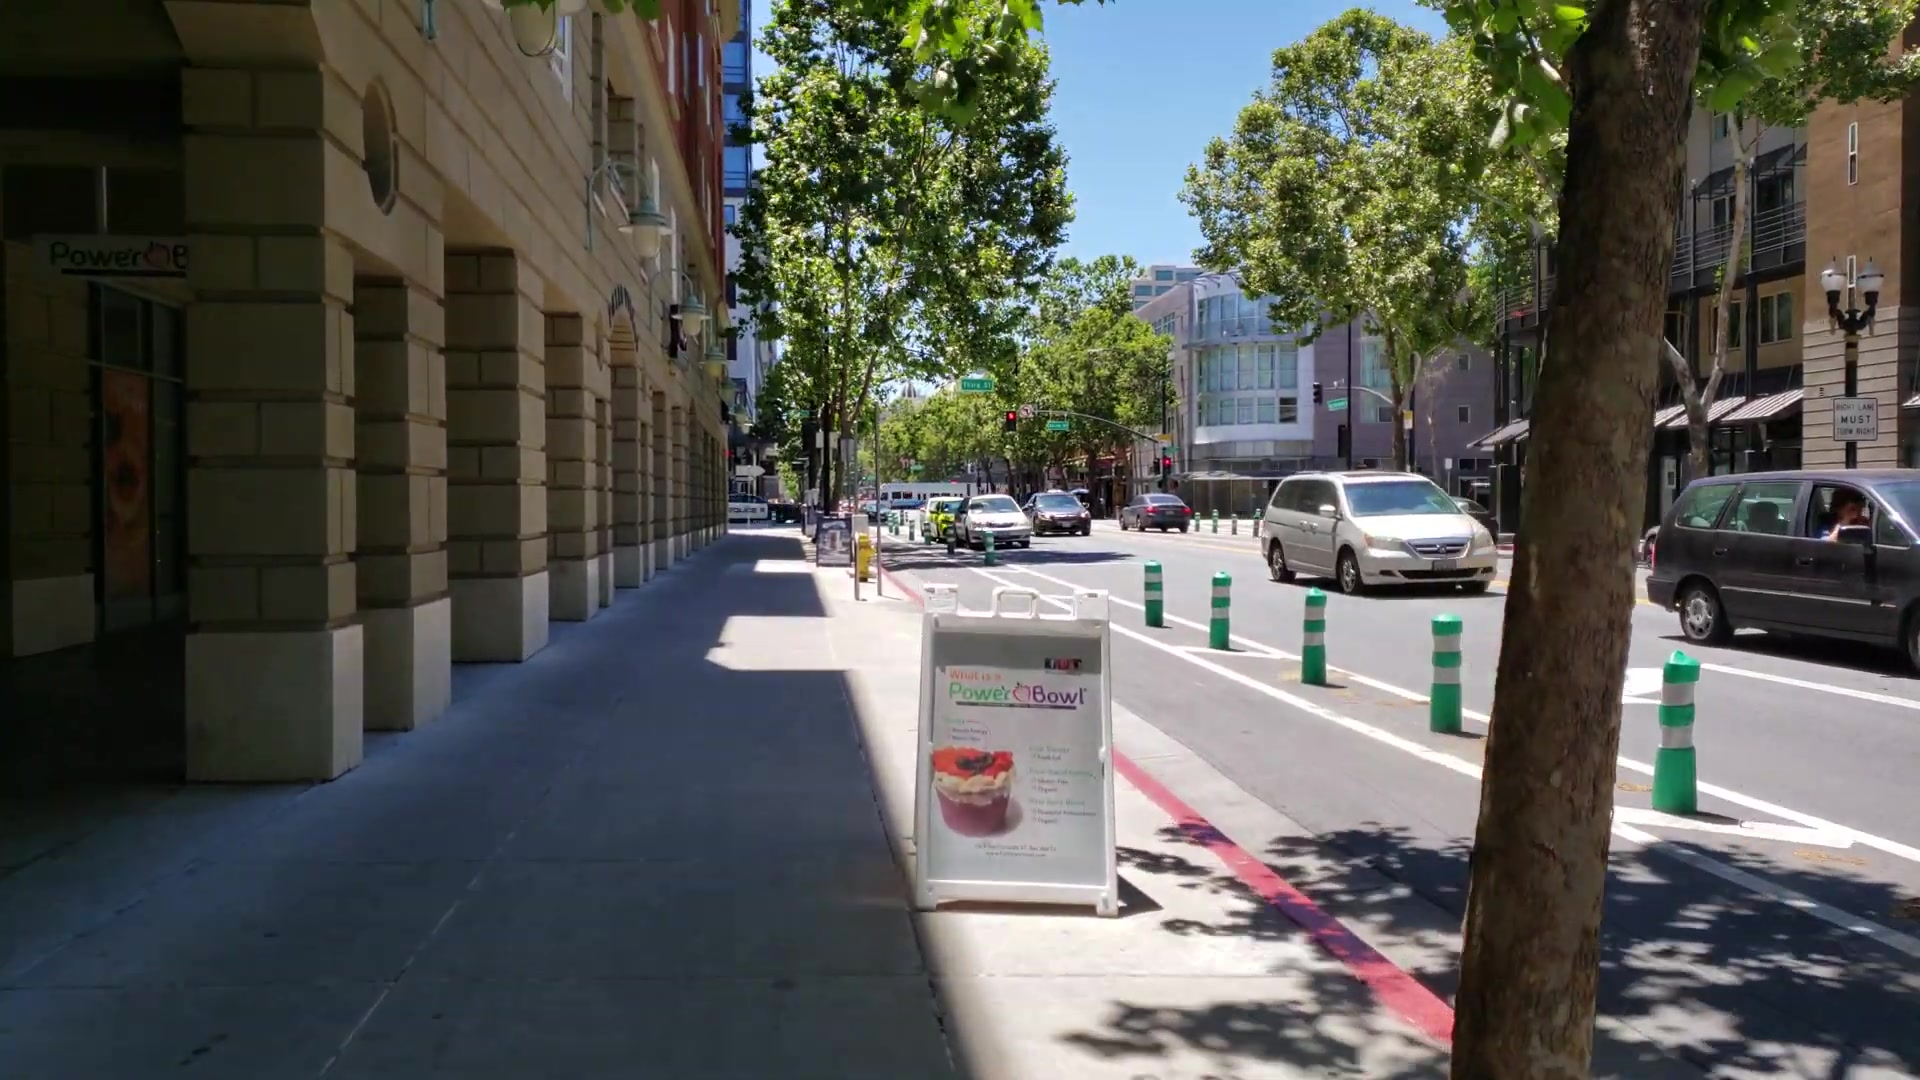vehicle: (1259, 469, 1498, 597), (1023, 491, 1091, 535), (1120, 495, 1192, 535)
